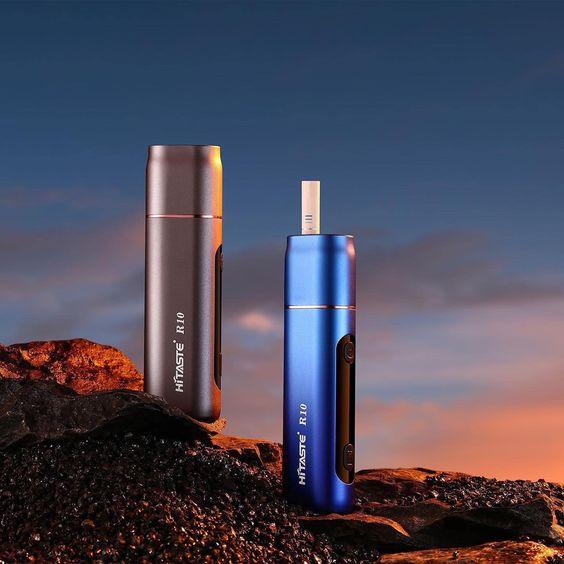iqos: (284, 181, 355, 511)
